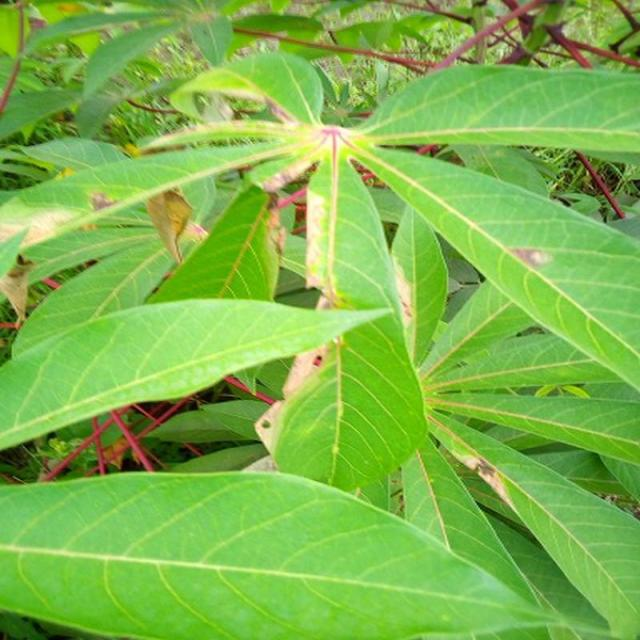cassava leaf: (0, 34, 638, 636), (0, 468, 569, 638), (0, 294, 392, 452)
